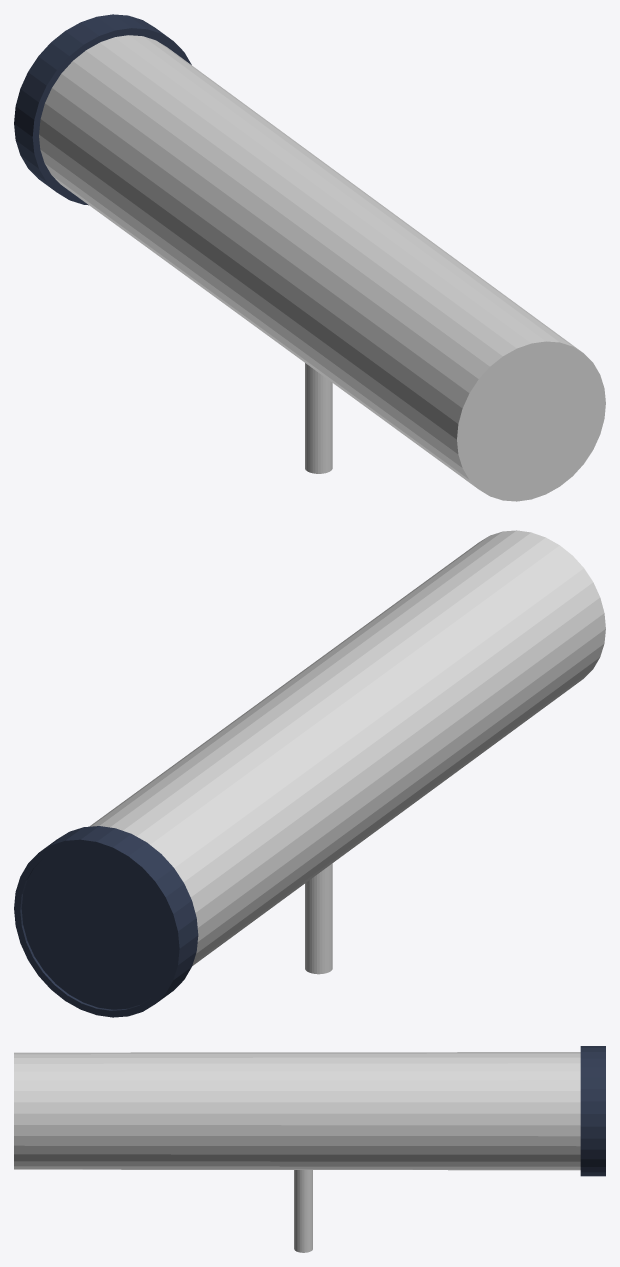
Rendered from Pipesegment_straight_blank.fbx.
3 views of the same model, one above another, from view 1: azimuth 30°, elevation 25°; view 2: azimuth 150°, elevation 25°; view 3: azimuth 270°, elevation 25° (orthographic). The views are drawn at different scales.
Visible parts, largest first — view 1: Pipe-Segment_straight, Pipe-foot; view 2: Pipe-Segment_straight, Pipe-foot; view 3: Pipe-Segment_straight, Pipe-foot.
Boxes of the visible parts, <box> form: Pipe-Segment_straight: <box>14,14,605,501</box>; Pipe-foot: <box>305,363,332,473</box>; Pipe-Segment_straight: <box>14,530,605,1017</box>; Pipe-foot: <box>305,863,332,974</box>; Pipe-Segment_straight: <box>14,1046,605,1176</box>; Pipe-foot: <box>294,1170,312,1252</box>.
Bounding box in the file's own units: 110 × 183 × 500.
